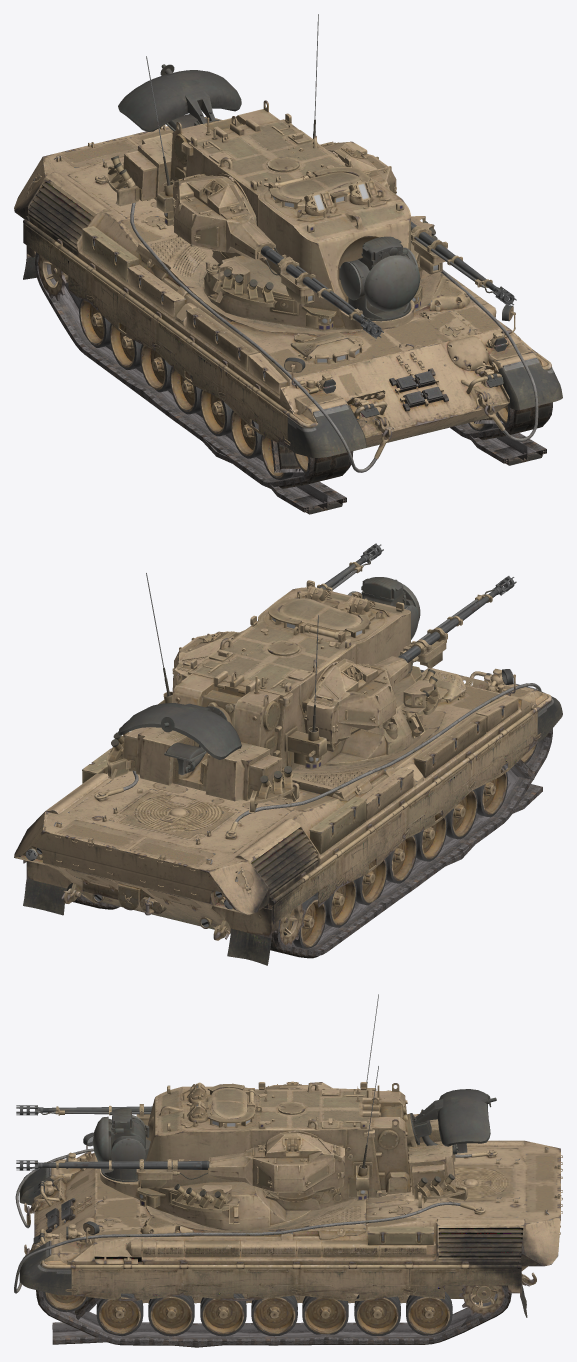
File: VEH_Gepard.glb
3 renders of one model, top to bottom at view 1: azimuth 30°, elevation 25°; view 2: azimuth 150°, elevation 25°; view 3: azimuth 270°, elevation 25°, orthographic. The views are drawn at different scales.
Visible parts, largest first — view 1: ob_veh_tank_gepard_base_s0, ob_veh_tank_gepard_base_s1, ob_veh_tank_gepard_tracks_s0_p0, ob_veh_tank_gepard_tracks_s0_p1; view 2: ob_veh_tank_gepard_base_s0, ob_veh_tank_gepard_base_s1, ob_veh_tank_gepard_tracks_s0_p0; view 3: ob_veh_tank_gepard_base_s0, ob_veh_tank_gepard_base_s1, ob_veh_tank_gepard_tracks_s0_p1.
Boxes of the visible parts, x1,y1,x2,y2 form: ob_veh_tank_gepard_base_s0: (14, 116, 562, 479); ob_veh_tank_gepard_base_s1: (107, 14, 516, 338); ob_veh_tank_gepard_tracks_s0_p0: (35, 252, 353, 514); ob_veh_tank_gepard_tracks_s0_p1: (450, 402, 552, 465); ob_veh_tank_gepard_base_s0: (14, 668, 562, 965); ob_veh_tank_gepard_base_s1: (107, 543, 516, 813); ob_veh_tank_gepard_tracks_s0_p0: (268, 728, 552, 958); ob_veh_tank_gepard_base_s0: (14, 1132, 562, 1336); ob_veh_tank_gepard_base_s1: (16, 994, 496, 1230); ob_veh_tank_gepard_tracks_s0_p1: (36, 1263, 511, 1347).
Size of the model in its own units: 3.08 by 3.64 by 6.71.
6 materials, 5 textured.
